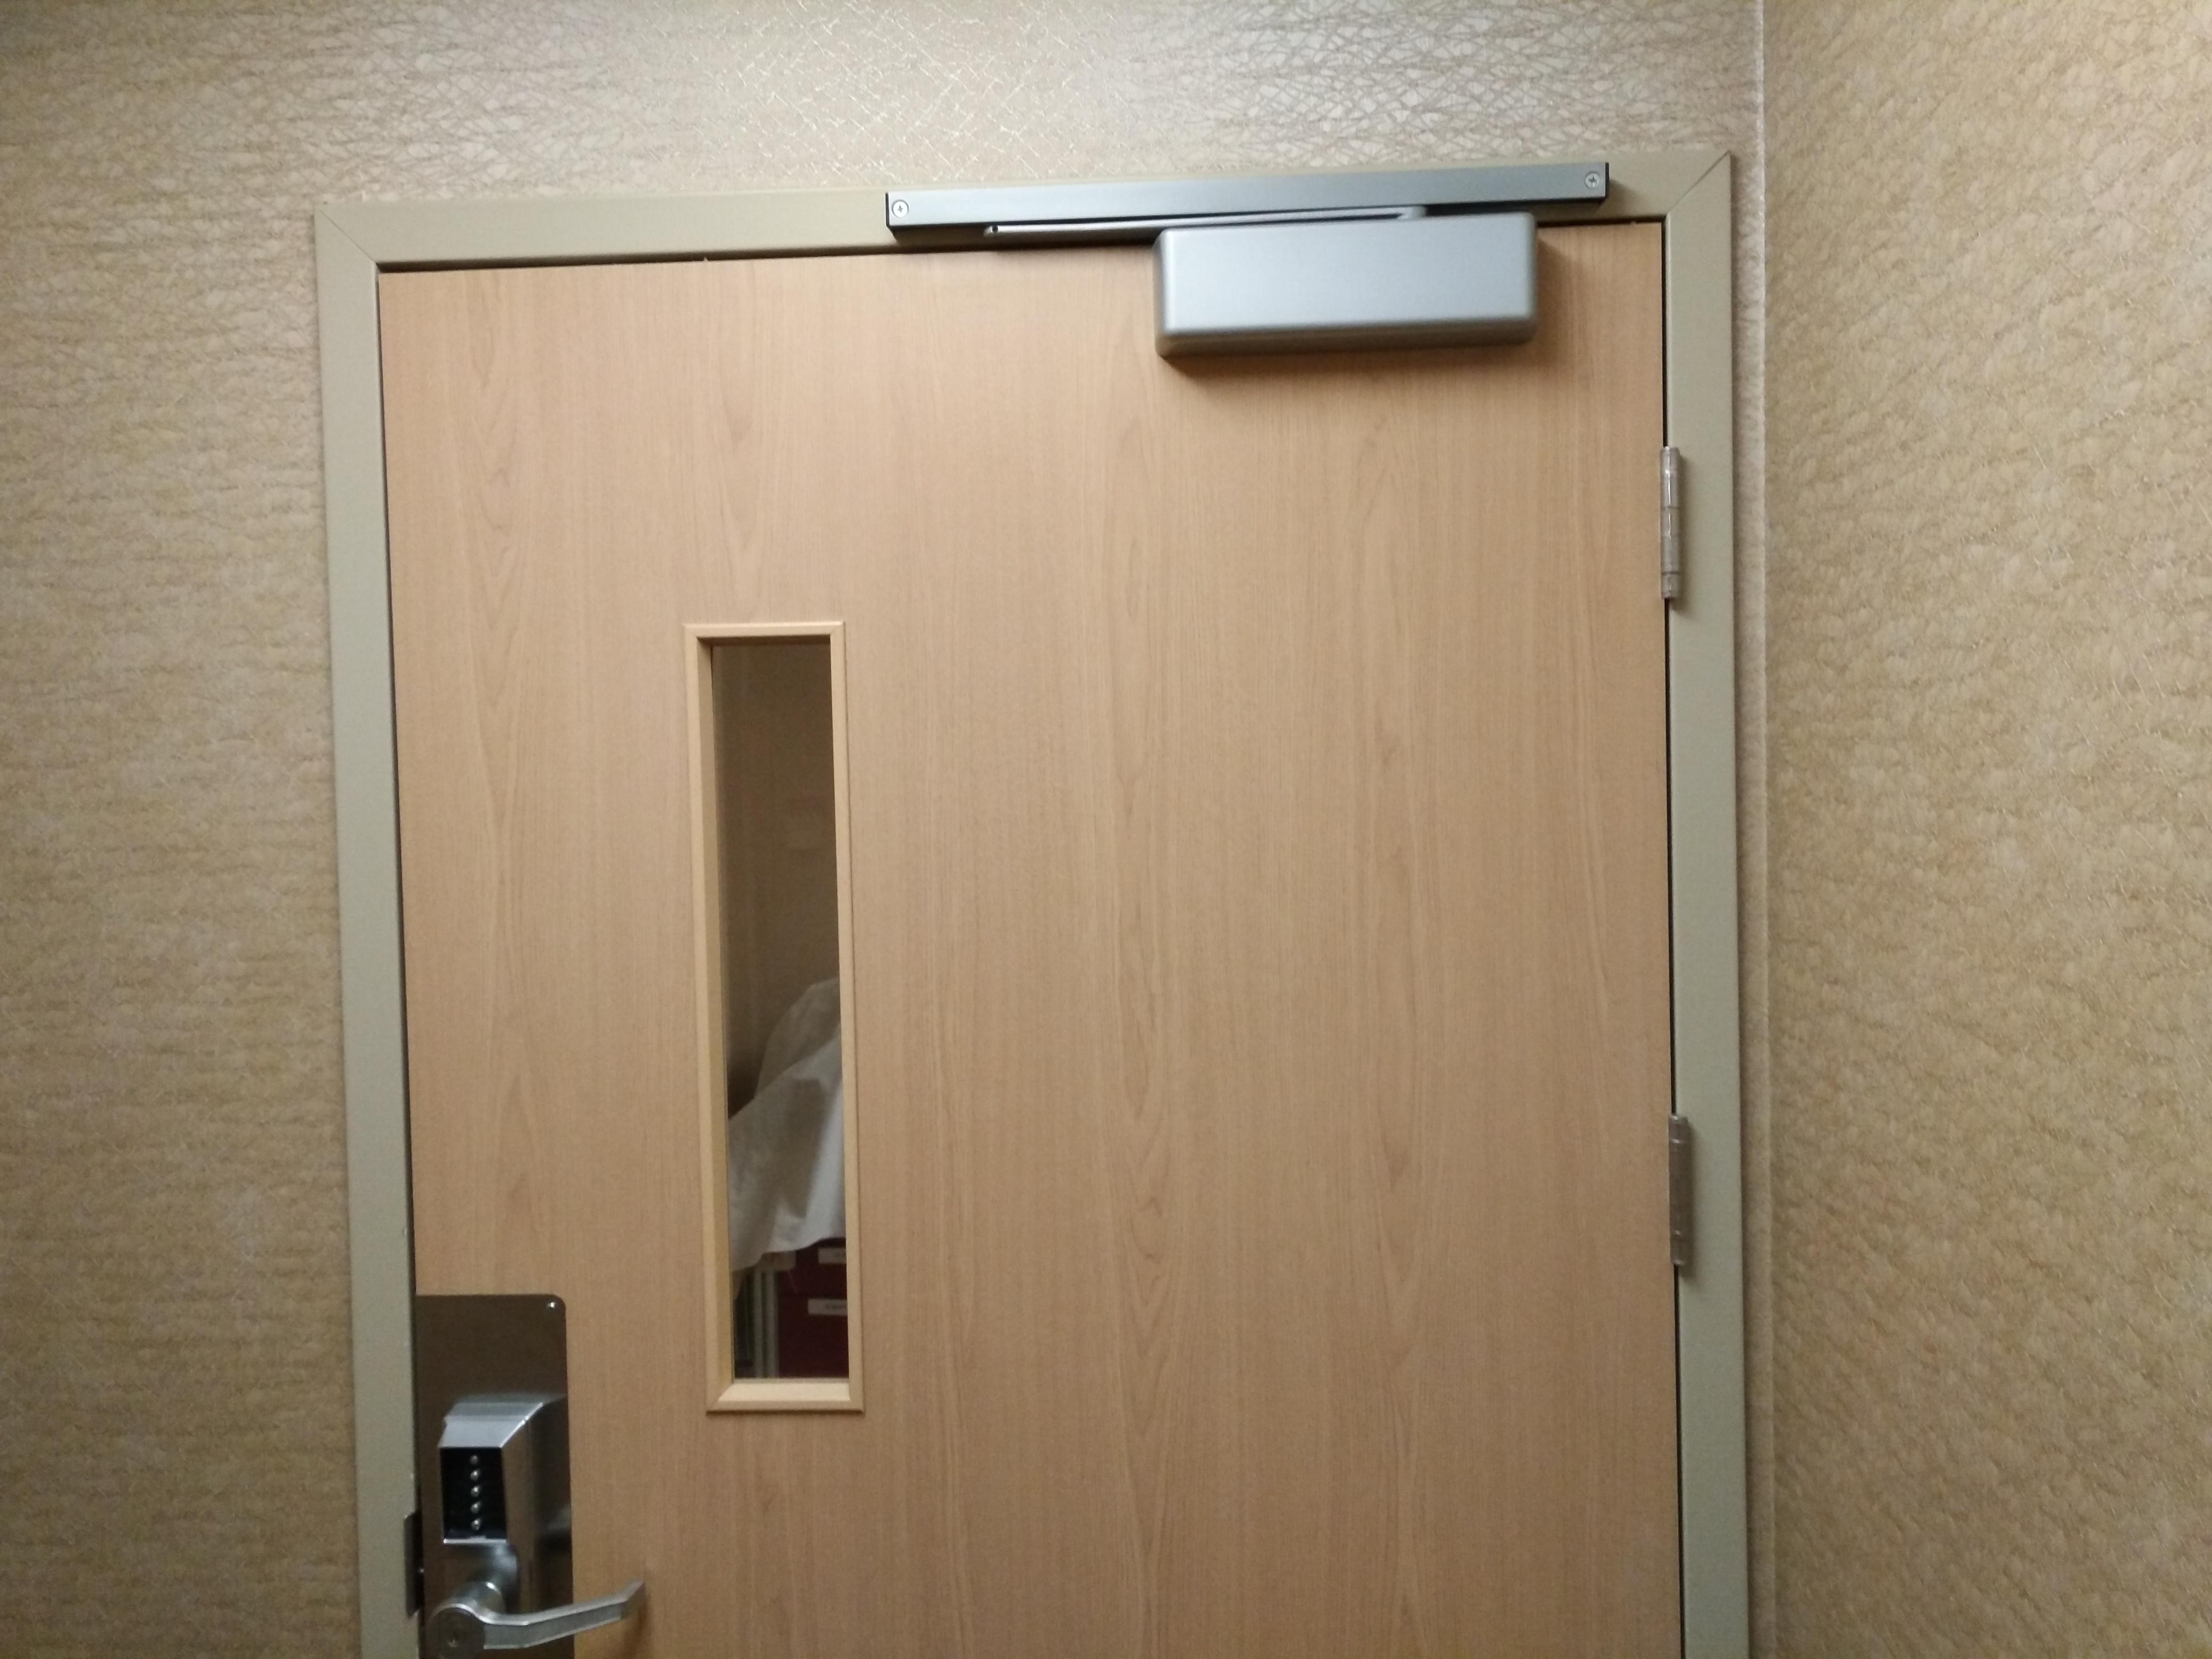door: (350, 242, 1702, 1659)
